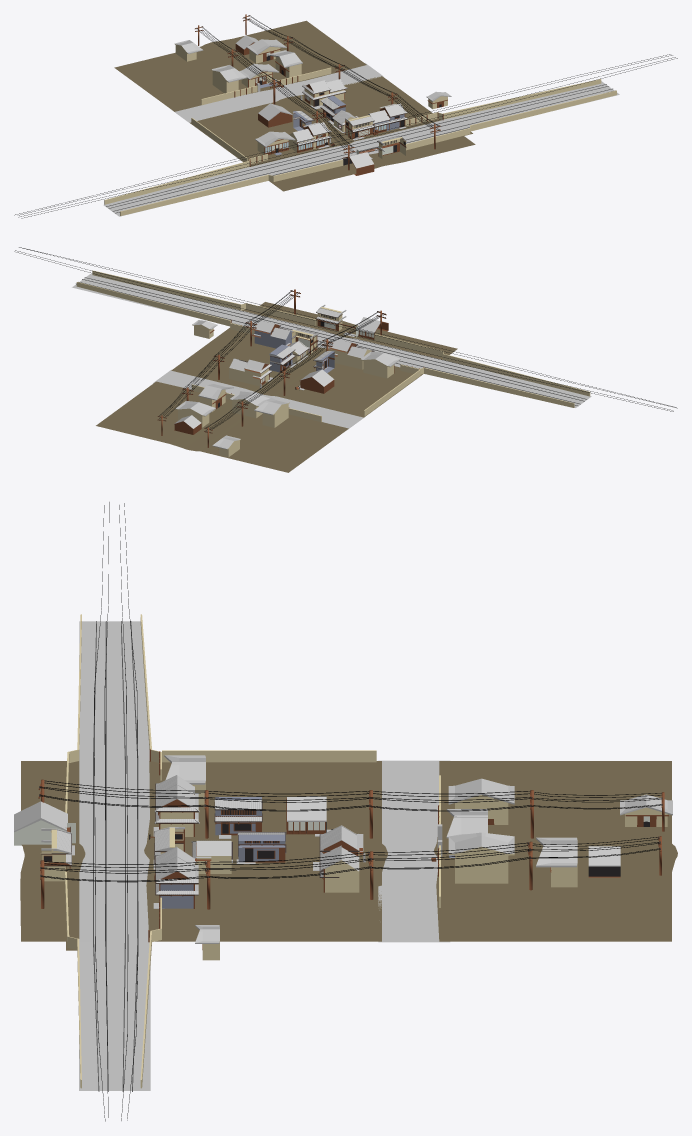
Rendered from JapanStreet2.fbx.
3 renders of one model, top to bottom at view 1: azimuth 30°, elevation 25°; view 2: azimuth 150°, elevation 25°; view 3: azimuth 270°, elevation 25°, orthographic. The views are drawn at different scales.
Visible parts, largest first — view 1: Plane.002; view 2: Plane.002; view 3: Plane.002.
Boxes of the visible parts, x1,y1,x2,y2 form: Plane.002: [14, 14, 677, 218]; Plane.002: [14, 247, 677, 472]; Plane.002: [14, 502, 677, 1121].
Size of the model in its own units: 26425 by 979 by 11992.
